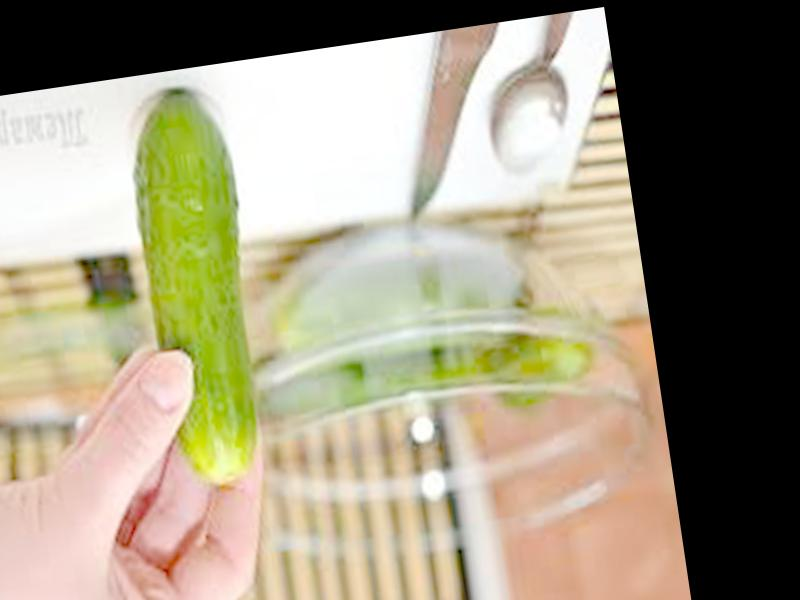Cucumber: (120, 86, 278, 490)
